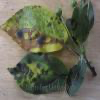Apple Scab Leaf: (0, 3, 72, 56), (5, 49, 67, 96)
